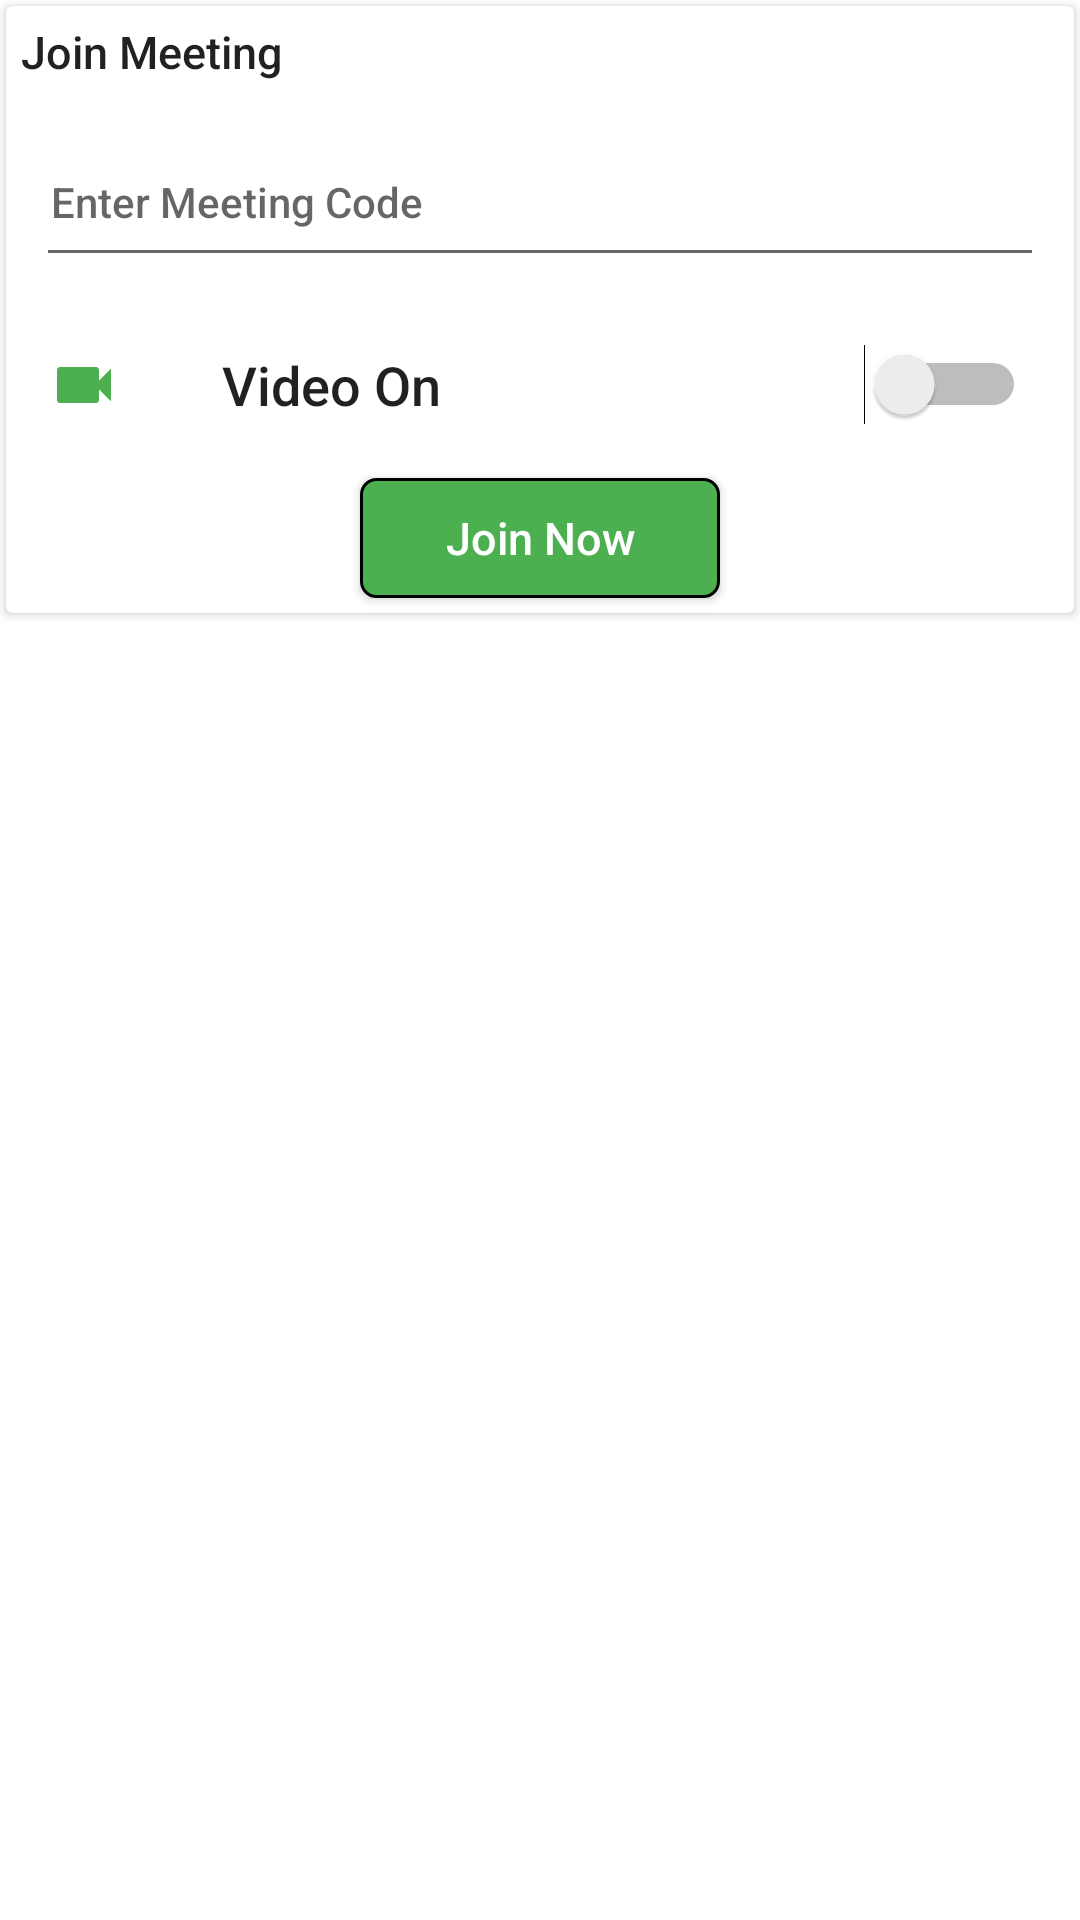

Where to tap for icons on this 1080px×1920px app screen, as point (x, y):
videocam: point (84, 385)
